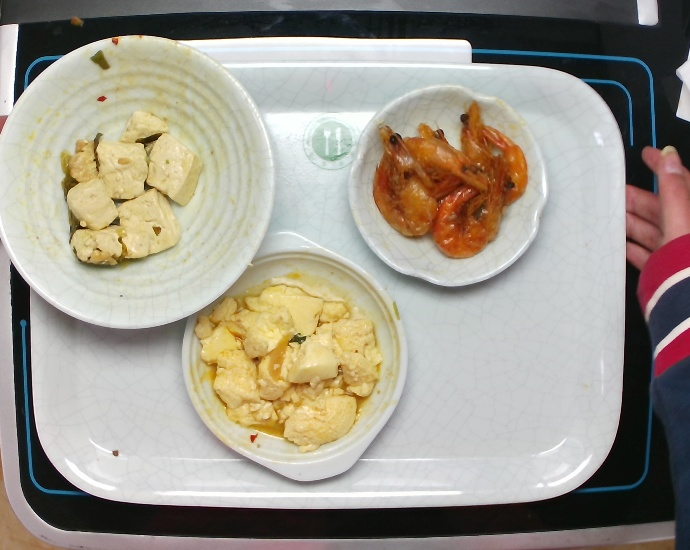JYsf-Ao_Yuan_Wan: (346, 79, 551, 289)
JYsf-Shuang_Er_Pan: (178, 227, 410, 486)
JYsf-Xiao_Tang_Wan: (1, 29, 280, 332)
